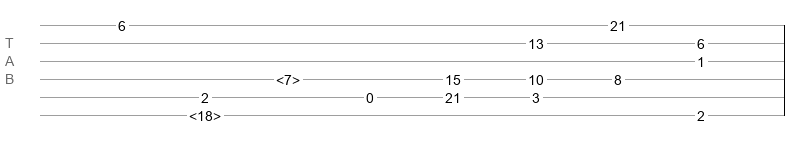0: (366, 90, 374, 100)
1: (697, 54, 705, 64)
10: (528, 72, 544, 82)
13: (528, 36, 544, 46)
15: (445, 72, 461, 82)
2: (201, 90, 209, 100), (697, 108, 705, 118)
21: (445, 90, 461, 100), (610, 18, 626, 28)
3: (532, 90, 540, 100)
6: (118, 18, 126, 28), (697, 36, 705, 46)
8: (614, 72, 622, 82)
harmonic: (189, 108, 221, 118), (276, 72, 300, 82)
